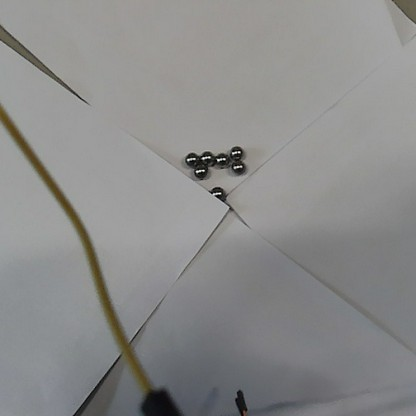ironball: (193, 165, 207, 180), (211, 185, 225, 197), (200, 150, 212, 164), (184, 150, 195, 164), (231, 161, 244, 172), (215, 152, 226, 165), (231, 146, 242, 158)
